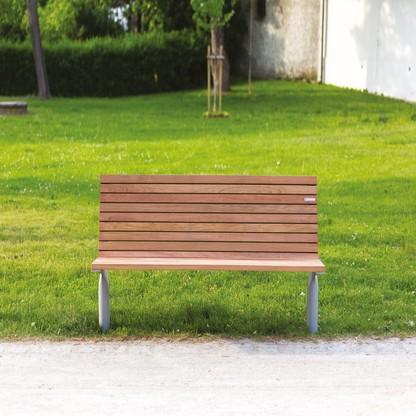obstacle: (85, 159, 333, 341)
